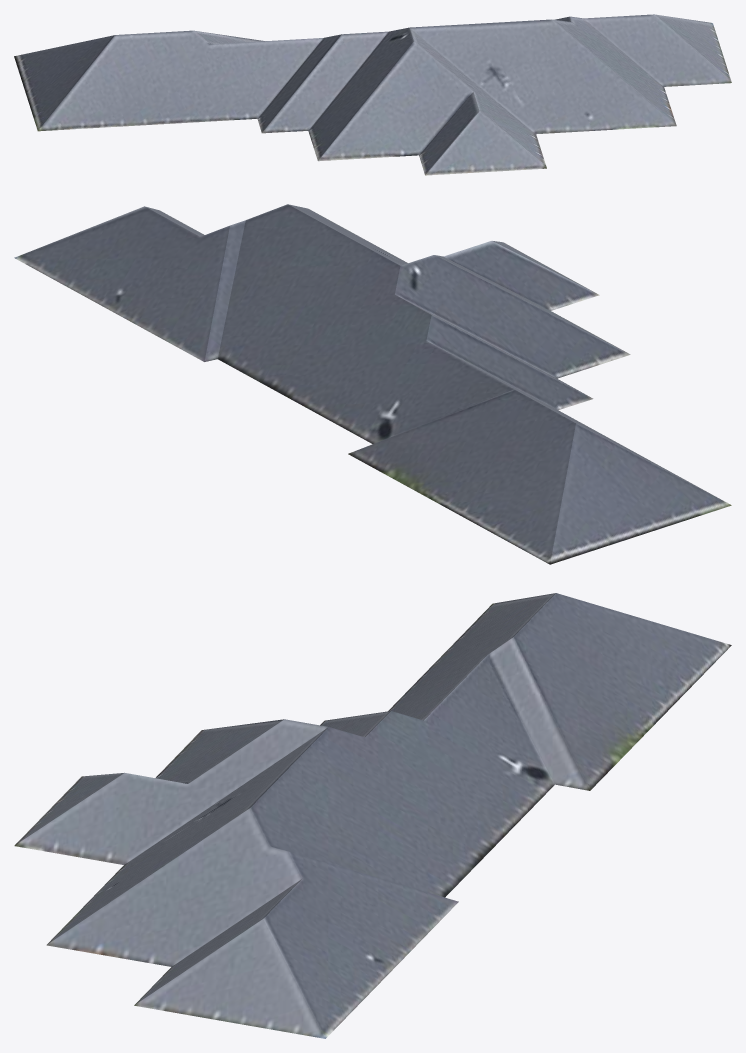
The model's file is CG10_500_044074_0026_roof.obj.
The picture shows the model from 3 angles, top to bottom: view 1: azimuth 30°, elevation 25°; view 2: azimuth 150°, elevation 25°; view 3: azimuth 270°, elevation 25°; orthographic projection. The views are drawn at different scales.
Parts seen in each view (by area): view 1: CG10_500_044074_0026_roof; view 2: CG10_500_044074_0026_roof; view 3: CG10_500_044074_0026_roof.
Part boxes in pixels (x1,y1,x2,y2): CG10_500_044074_0026_roof: [14, 14, 731, 175]; CG10_500_044074_0026_roof: [14, 204, 731, 564]; CG10_500_044074_0026_roof: [14, 593, 731, 1038].
Size of the model in its own units: 661 by 70 by 461.
Materials: 1 (1 with a texture image).
